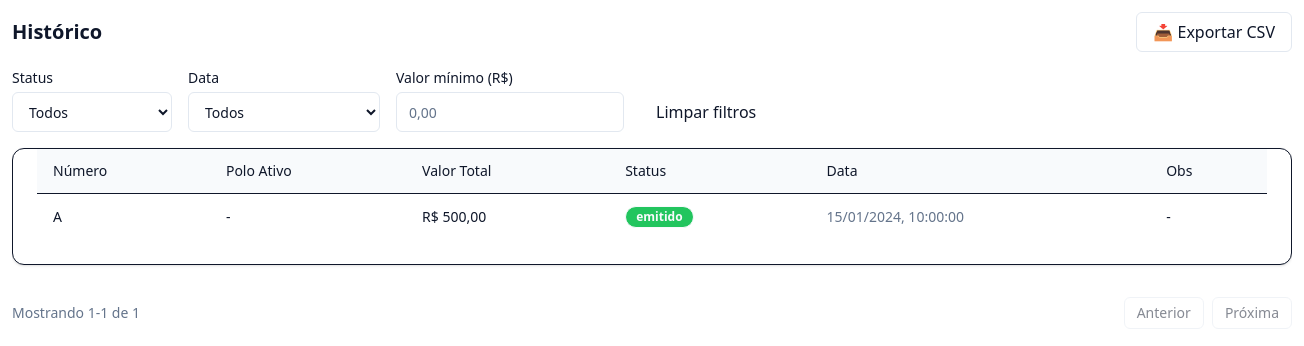
Scenario: Historico › exibe mensagem de estado vazio para filtros sem resultados
expect the text "A" is shown: met, box top-left (37, 194), bottom-right (210, 240)
Select "Rejeitado" in the dropdown labelled "Status" at x=92, y=112, box top-left (12, 92), bottom-right (172, 132)
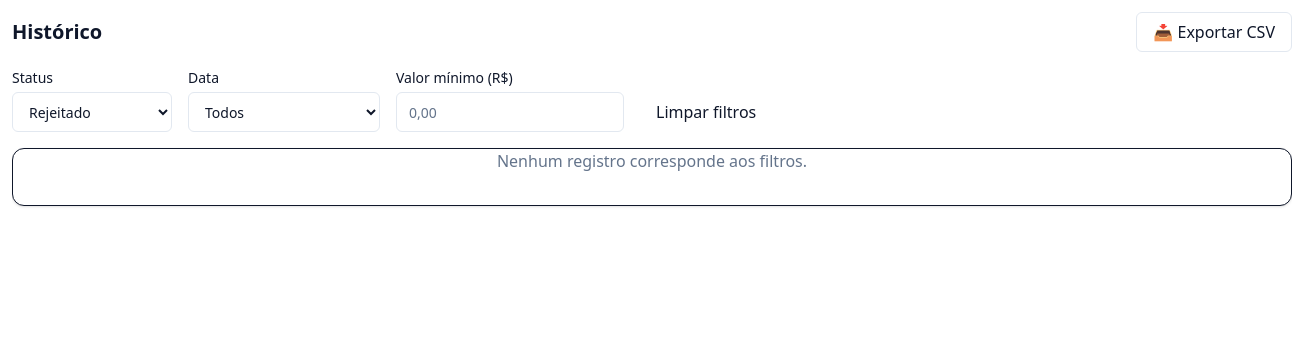
expect the text "Nenhum registro corresponde aos filtros." is shown: met, box top-left (497, 150), bottom-right (807, 172)
